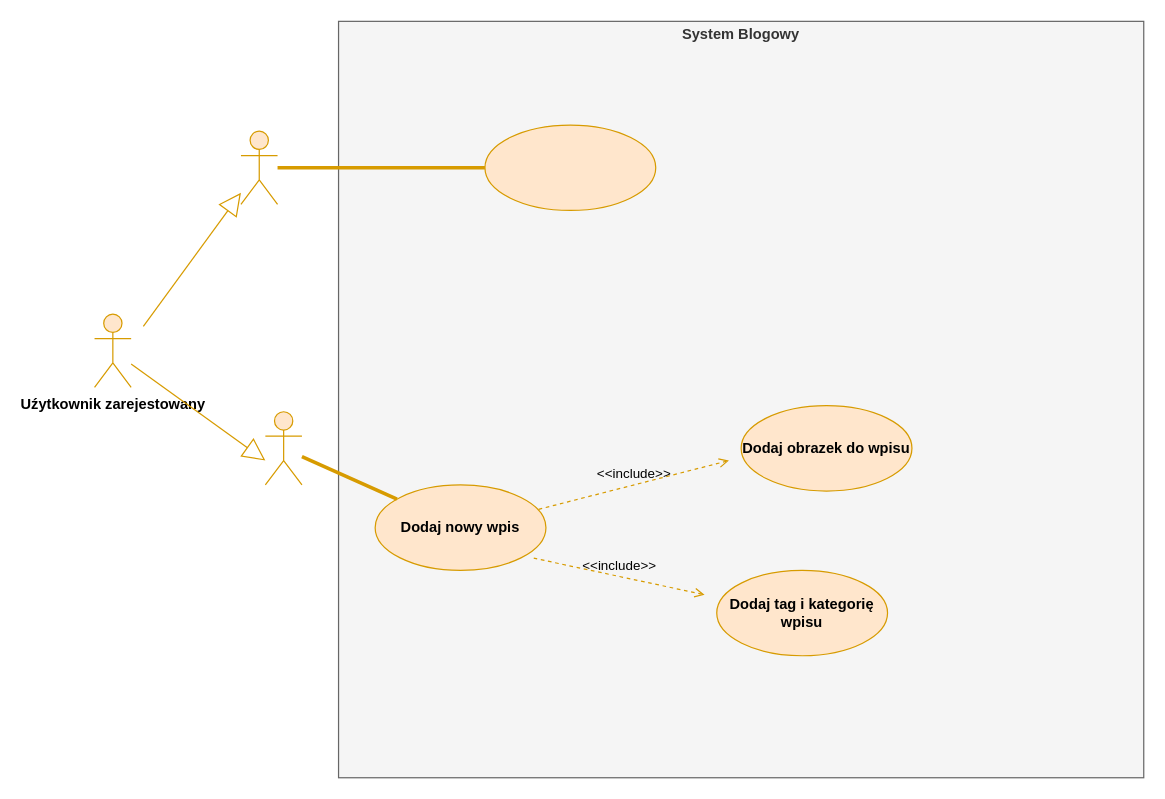
This 1165x799 diagram has some shape labels left out. Here are the shapes that lost their labels. From the top down, the box of each, then its label:
(240, 130, 278, 204): Administator
(484, 124, 656, 210): Usuń wpis lub użytkownika
(264, 411, 302, 485): Autor
